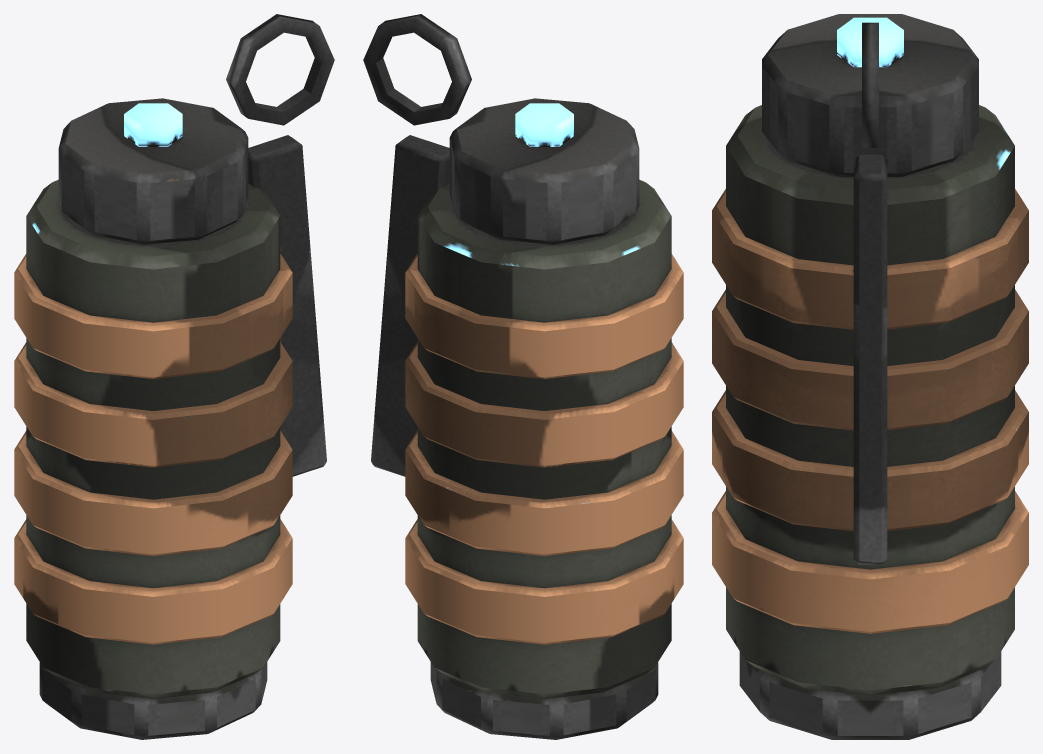
File: emp.gltf
The picture shows the model from 3 angles, left to right: view 1: azimuth 30°, elevation 25°; view 2: azimuth 150°, elevation 25°; view 3: azimuth 270°, elevation 25°; orthographic projection. The views are drawn at different scales.
Visible parts, largest first — view 1: emp; view 2: emp; view 3: emp.
Boxes of the visible parts, x1,y1,x2,y2 form: emp: (14, 14, 334, 739); emp: (363, 14, 683, 739); emp: (712, 14, 1028, 739).
Size of the model in its own units: 0.0705 by 0.146 by 0.057.
Materials: 1 (1 with a texture image).
